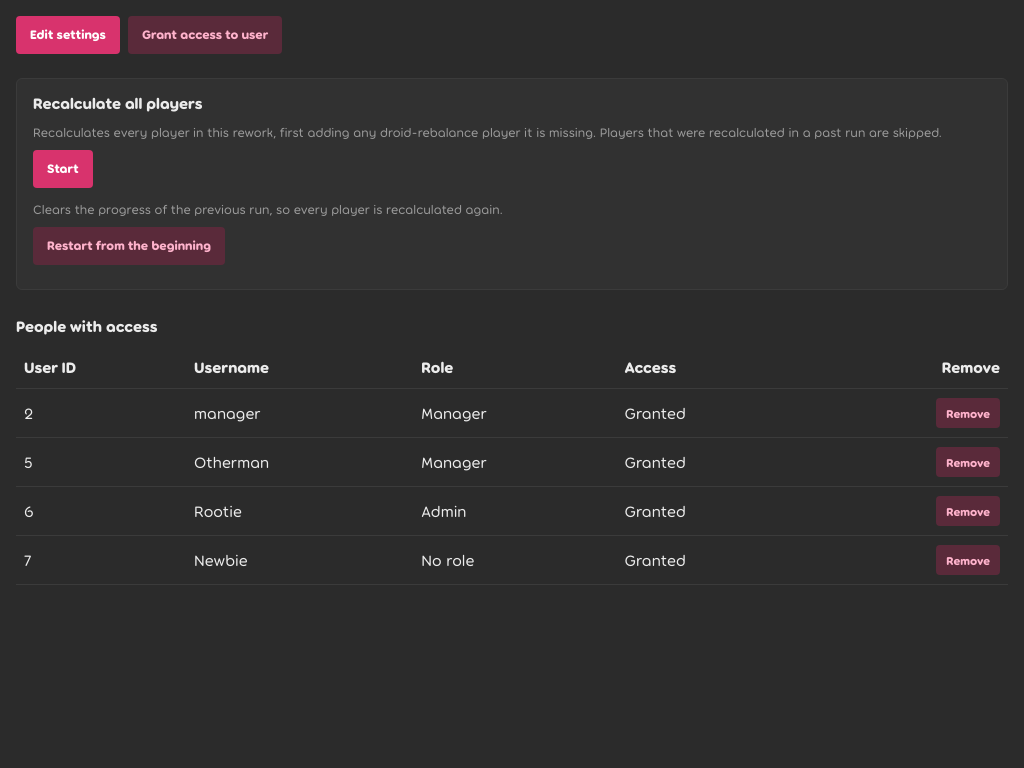
Test: full-run controls › shows a refusal from the server
This screenshot has width=1024, height=768.
What coordinates should you click on to do the following:
click the button "Start"
I would click on:
 (63, 169)
Its box is [33, 150, 93, 188].
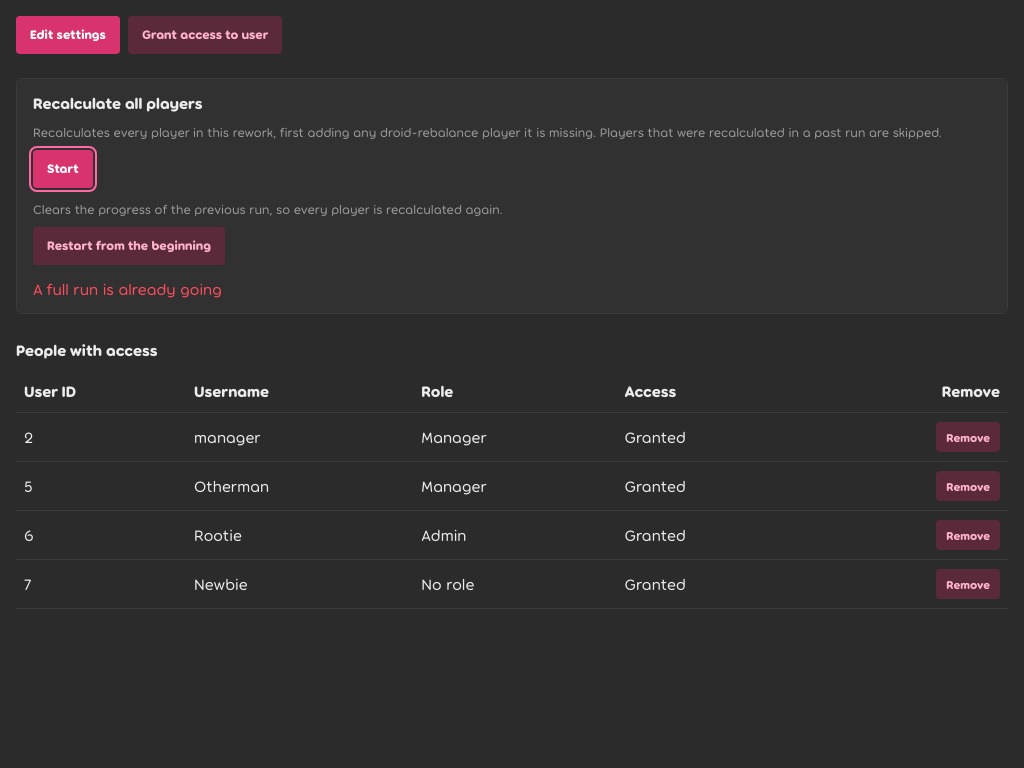
Now the message reads "A full run is already going", box [33, 278, 222, 298]
